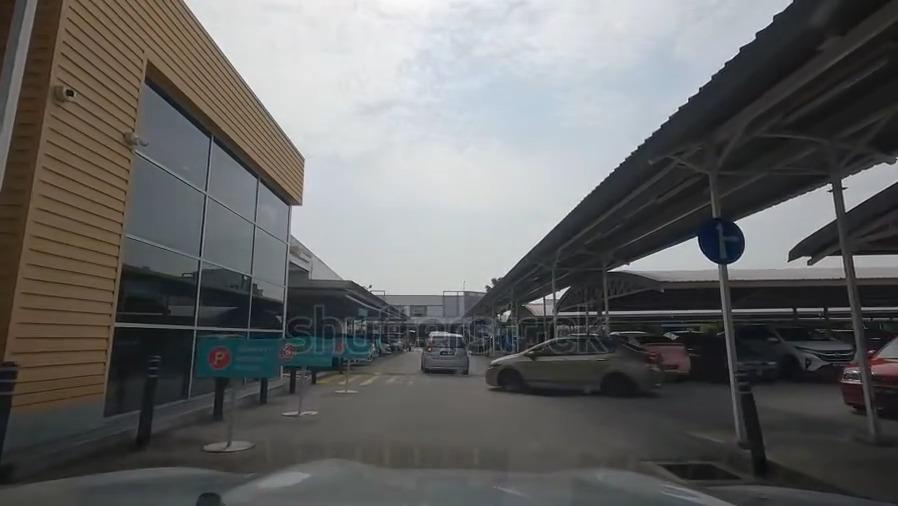car: (489, 340, 660, 392), (751, 319, 849, 376), (681, 332, 775, 382), (837, 341, 898, 416), (624, 333, 690, 376)
manhole: (649, 459, 743, 488)
pedestrian: (307, 377, 496, 392)
speedbump: (347, 366, 487, 378)
